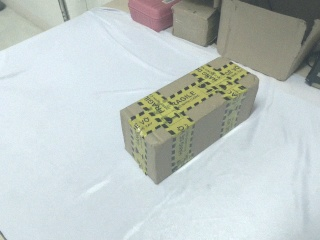box: (119, 57, 260, 185), (217, 1, 320, 80), (173, 1, 220, 46)
